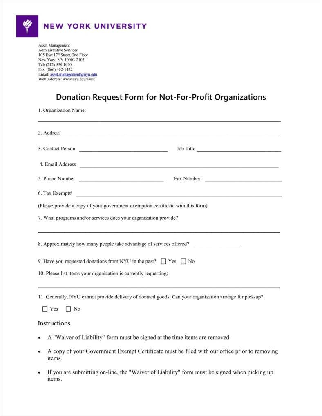checkbox: (41, 304, 50, 314), (62, 304, 72, 312), (159, 257, 167, 265), (180, 257, 187, 265)
textline: (36, 222, 281, 236), (36, 278, 283, 290), (73, 186, 283, 200), (36, 113, 281, 124), (78, 157, 281, 170), (60, 129, 281, 138), (77, 142, 169, 154), (195, 141, 284, 153), (202, 172, 283, 185), (75, 173, 165, 184), (190, 238, 244, 249)
